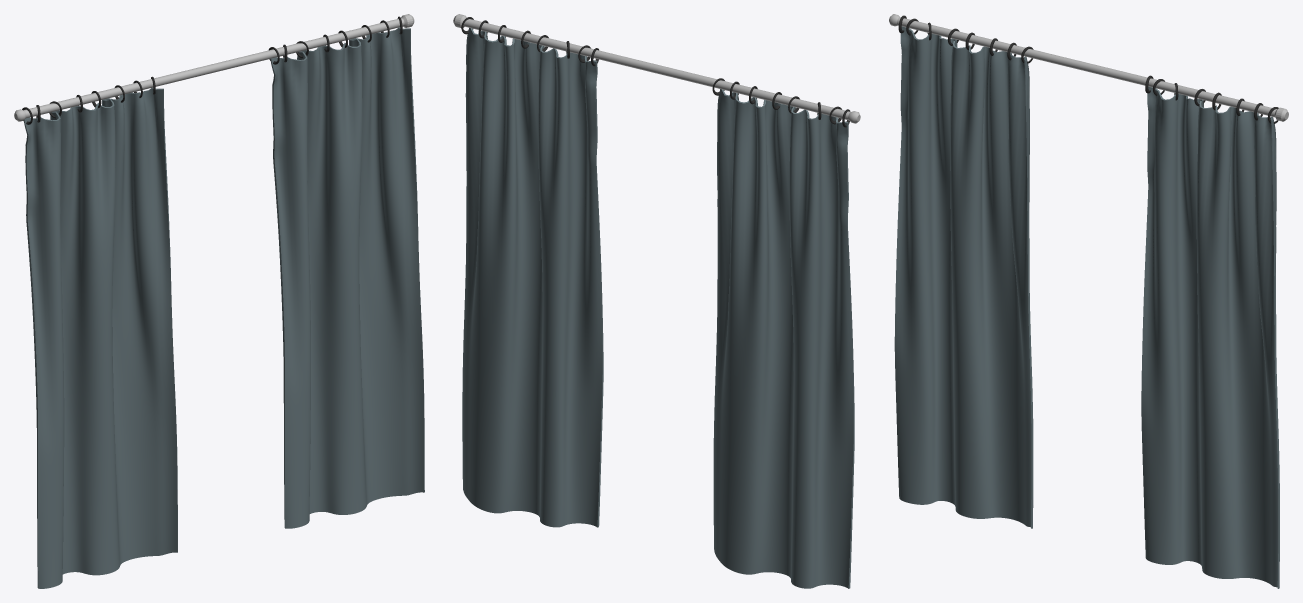
The model's file is CurtainsHalfOpen01.fbx.
3 renders of one model, left to right at view 1: azimuth 30°, elevation 25°; view 2: azimuth 150°, elevation 25°; view 3: azimuth 330°, elevation 25°, orthographic.
Parts seen in each view (by area): view 1: pPlane2 (×2), pCylinder1; view 2: pPlane2 (×2), pCylinder1; view 3: pPlane2 (×2), pCylinder1.
Boxes of the visible parts, x1,y1,x2,y2 form: pPlane2 (×2): [23, 27, 424, 588]; pCylinder1: [14, 14, 414, 121]; pPlane2 (×2): [462, 28, 854, 588]; pCylinder1: [453, 14, 860, 123]; pPlane2 (×2): [894, 26, 1279, 588]; pCylinder1: [889, 14, 1288, 121].
Size of the model in its own units: 106 by 122 by 8.12.
